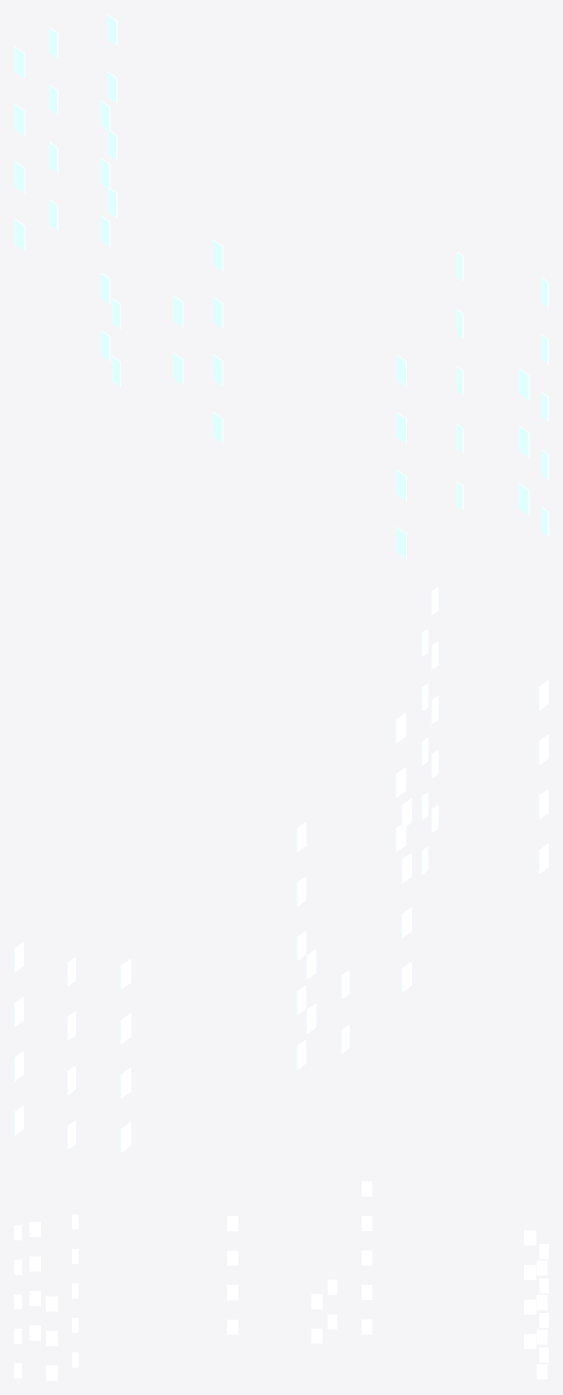
File: SpireWindowsE.fbx
3 views of the same model, one above another, from view 1: azimuth 30°, elevation 25°; view 2: azimuth 150°, elevation 25°; view 3: azimuth 270°, elevation 25° (orthographic). The views are drawn at different scales.
Visible parts, largest first — view 1: WindowE0_12.001; view 2: WindowE0_12.001; view 3: WindowE0_12.001.
Part boxes in pixels (left/top/right/bottom): WindowE0_12.001: left=14, top=14, right=548, bottom=558; WindowE0_12.001: left=14, top=587, right=548, bottom=1152; WindowE0_12.001: left=14, top=1181, right=548, bottom=1380.
Size of the model in its own units: 4486 by 6200 by 19663.
